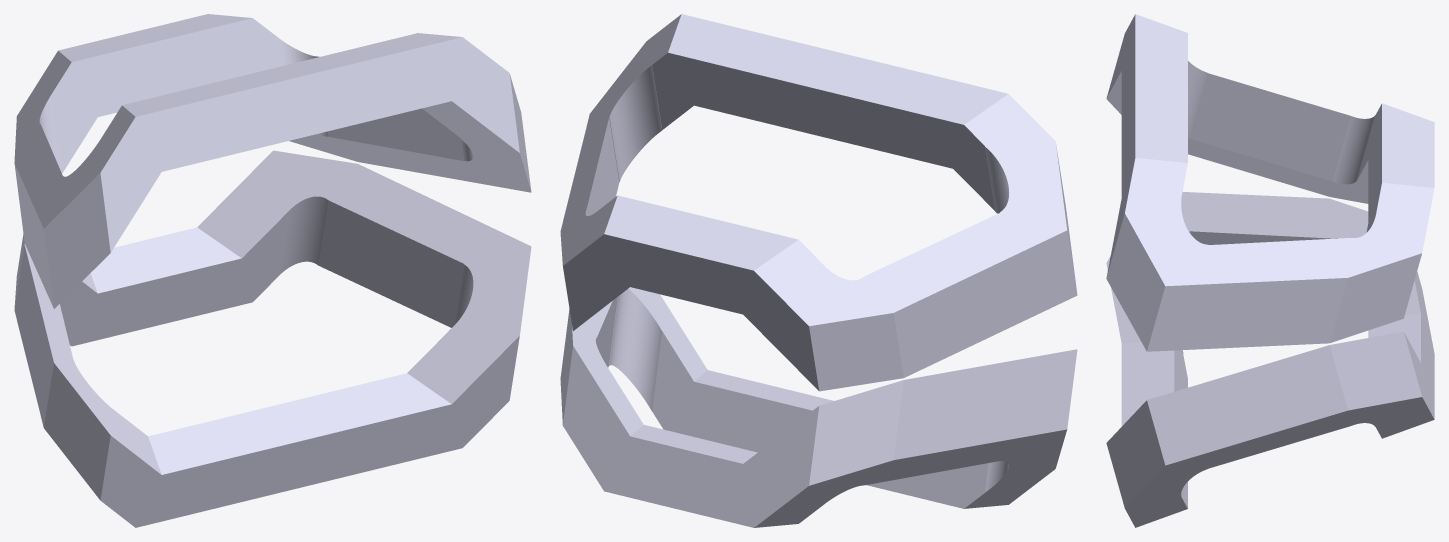
The model's file is LHCb_run3_MAGNET.gltf.
The picture shows the model from 3 angles, left to right: view 1: azimuth 30°, elevation 25°; view 2: azimuth 150°, elevation 25°; view 3: azimuth 270°, elevation 25°; orthographic projection. The views are drawn at different scales.
Parts seen in each view (by area): view 1: _dd_Structure_LHCb_MagnetRegion_Magnet_LowerCoil0x18b2fe80, _dd_Structure_LHCb_MagnetRegion_Magnet_UpperCoil0x18b2fdb0; view 2: _dd_Structure_LHCb_MagnetRegion_Magnet_UpperCoil0x18b2fdb0, _dd_Structure_LHCb_MagnetRegion_Magnet_LowerCoil0x18b2fe80; view 3: _dd_Structure_LHCb_MagnetRegion_Magnet_UpperCoil0x18b2fdb0, _dd_Structure_LHCb_MagnetRegion_Magnet_LowerCoil0x18b2fe80.
Part boxes in pixels (box(x1,y1,x2,y2)): _dd_Structure_LHCb_MagnetRegion_Magnet_LowerCoil0x18b2fe80: box(14, 150, 531, 527); _dd_Structure_LHCb_MagnetRegion_Magnet_UpperCoil0x18b2fdb0: box(14, 14, 531, 308); _dd_Structure_LHCb_MagnetRegion_Magnet_UpperCoil0x18b2fdb0: box(560, 14, 1077, 391); _dd_Structure_LHCb_MagnetRegion_Magnet_LowerCoil0x18b2fe80: box(560, 287, 1077, 527); _dd_Structure_LHCb_MagnetRegion_Magnet_UpperCoil0x18b2fdb0: box(1106, 14, 1434, 351); _dd_Structure_LHCb_MagnetRegion_Magnet_LowerCoil0x18b2fe80: box(1106, 192, 1434, 527).
Bounding box in the file's own units: 7313 × 6017 × 4835.
